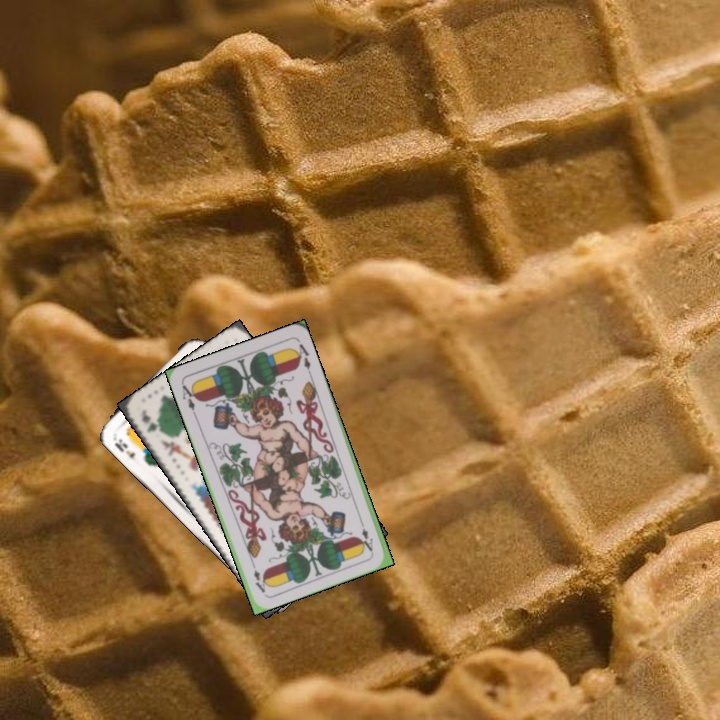EA: (178, 380, 200, 419), (355, 515, 375, 554)
EK: (110, 435, 138, 461)
GK: (137, 405, 165, 437)
